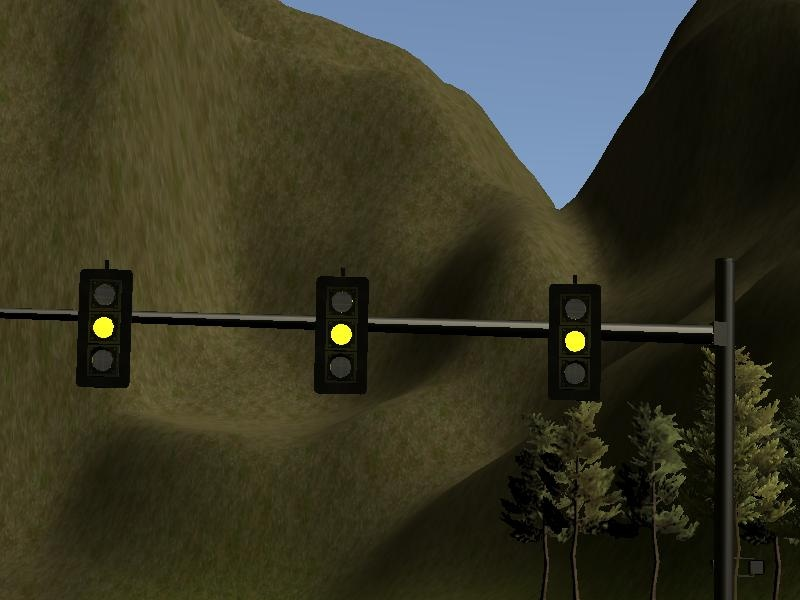YELLOW: (545, 278, 602, 402), (314, 269, 371, 393), (75, 265, 132, 389)
